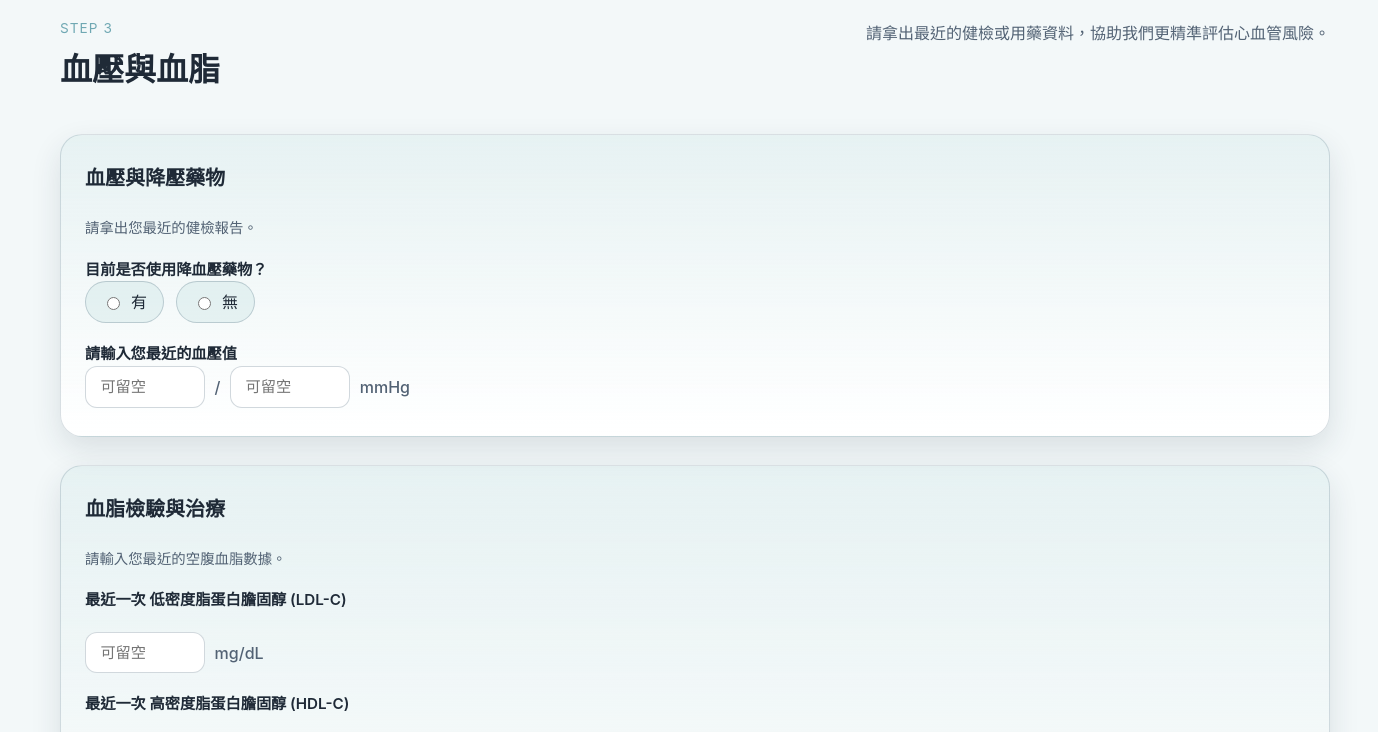
Scenario: Step2_BpLipids › 收集血壓與血脂資訊後提供即時提示並可前往下一步
This screenshot has width=1378, height=732.
Click the text "無": (230, 302) 222,290 -> 238,314
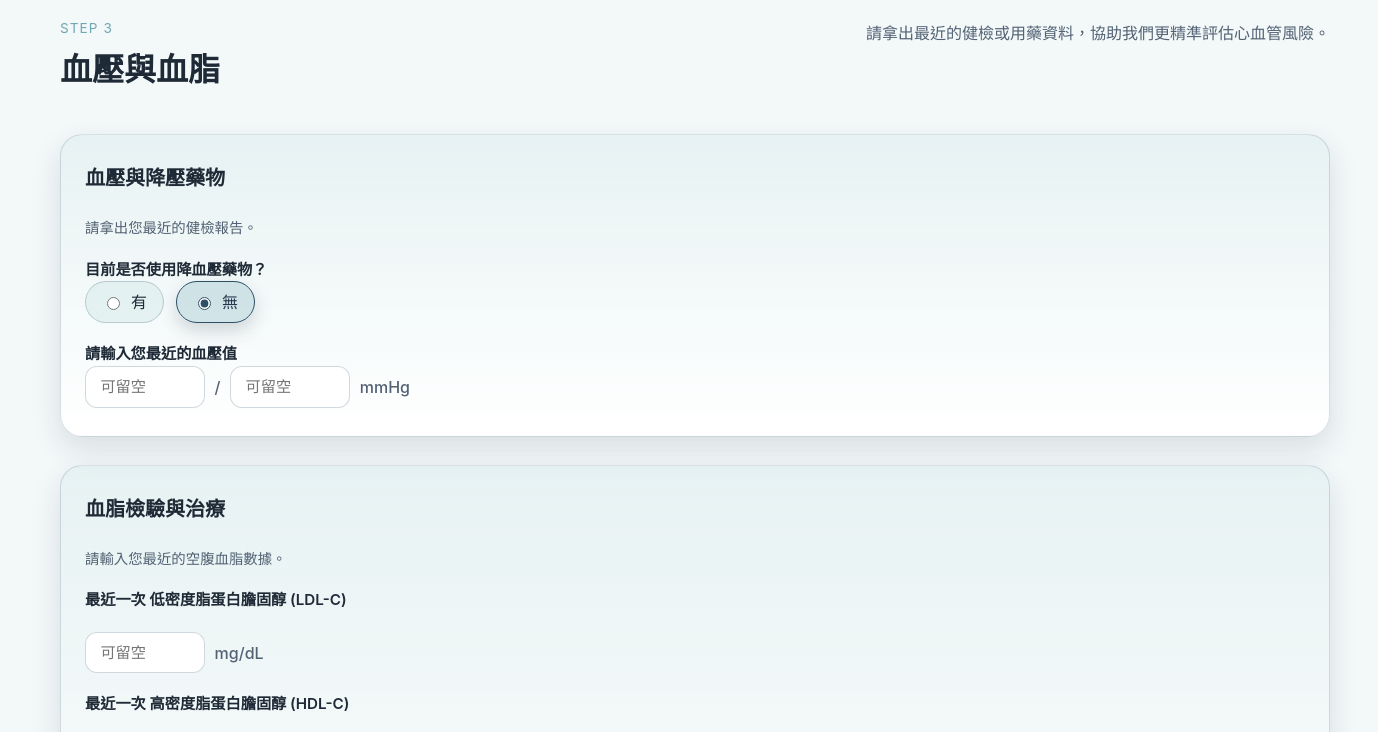
In the number field named "收縮壓": (145, 387) 85,366 -> 205,408, type "128"
In the number field named "舒張壓": (290, 387) 230,366 -> 350,408, type "82"
In the number field labelled "最近一次 低密度脂蛋白膽固醇 (LDL-C)": (145, 653) 85,632 -> 205,673, type "120"
(page scrolled)
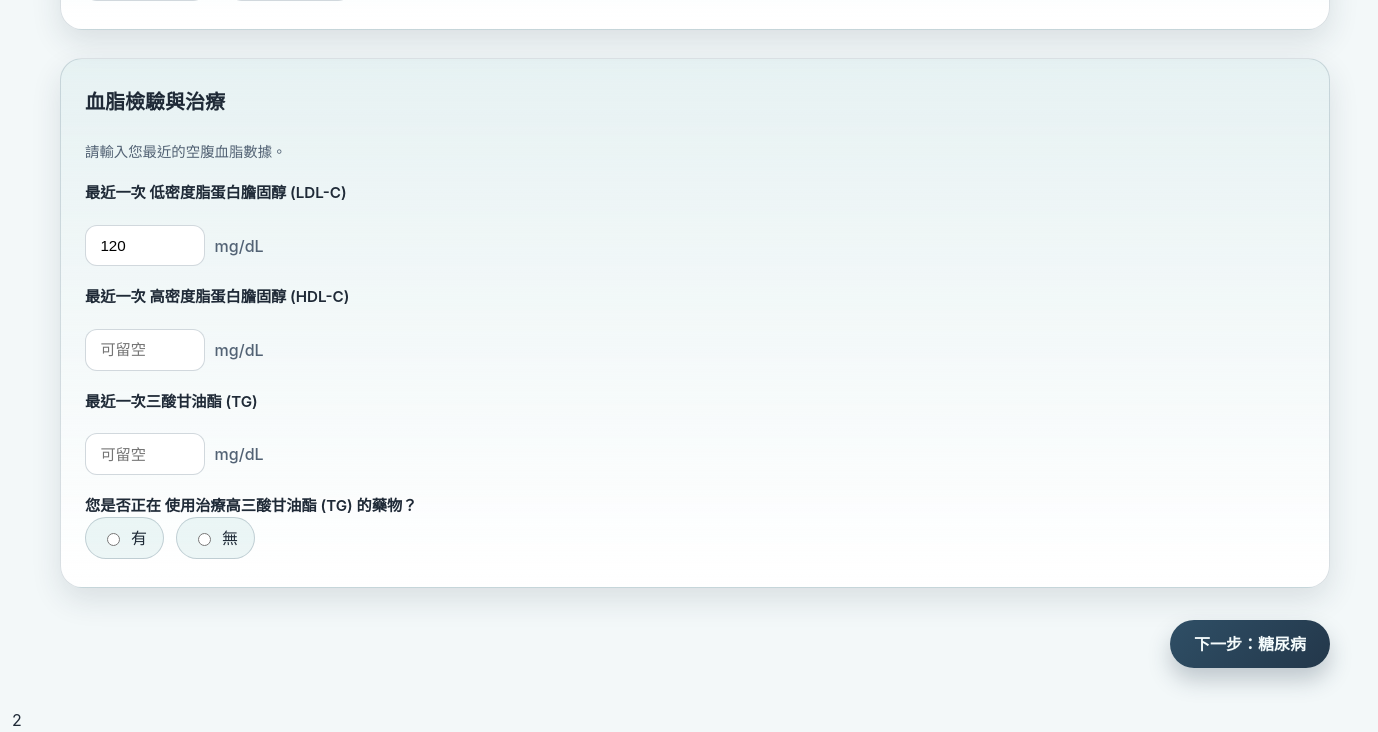
In the number field labelled "最近一次 高密度脂蛋白膽固醇 (HDL-C)": (145, 350) 85,329 -> 205,370, type "55"
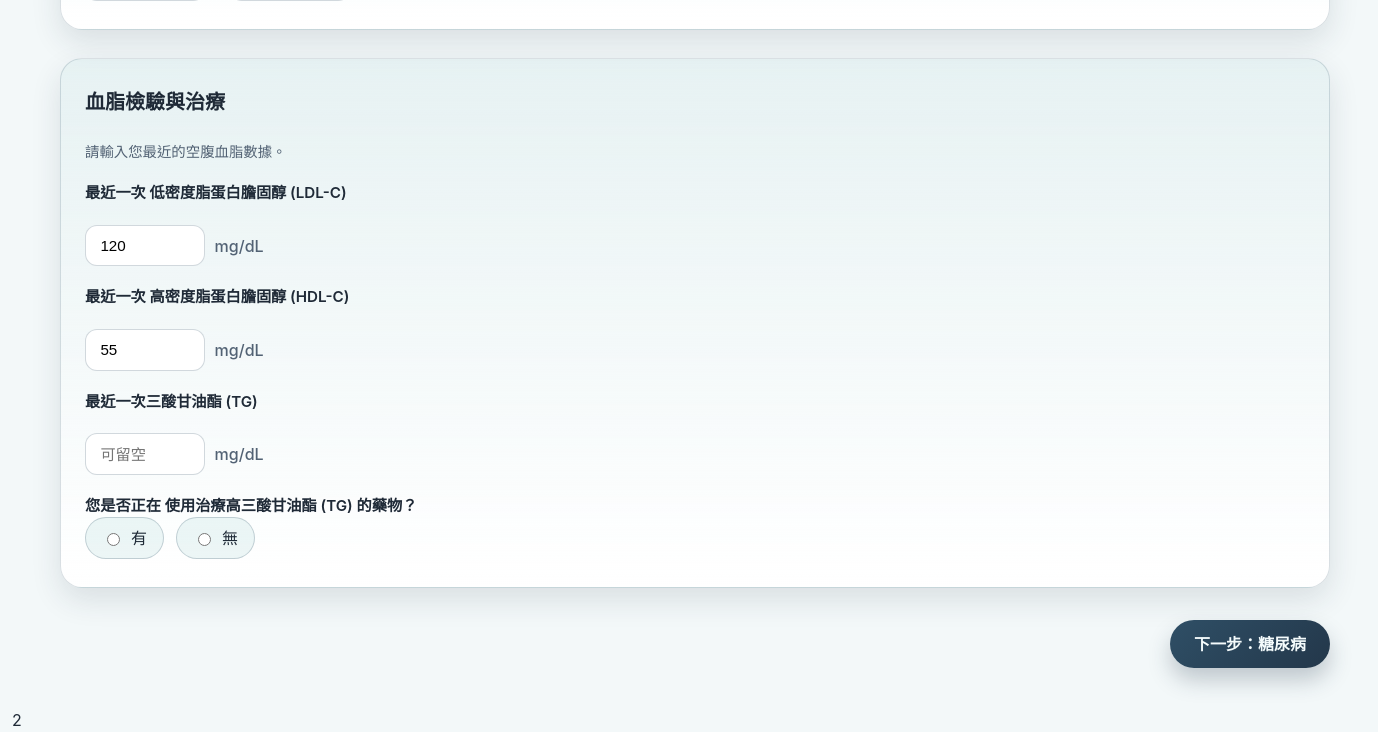
In the number field labelled "最近一次三酸甘油酯 (TG)": (145, 454) 85,433 -> 205,475, type "130"
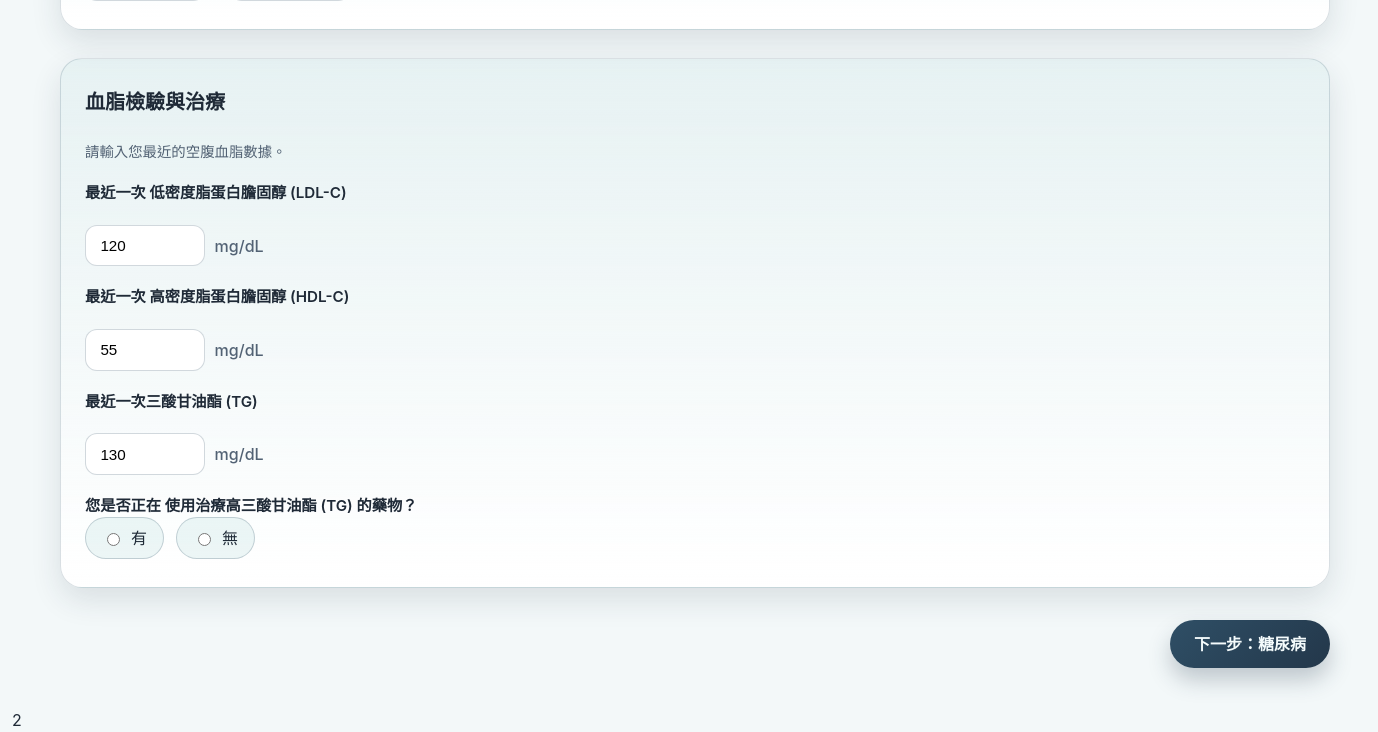
Click the text "無": (230, 538) 222,526 -> 238,550
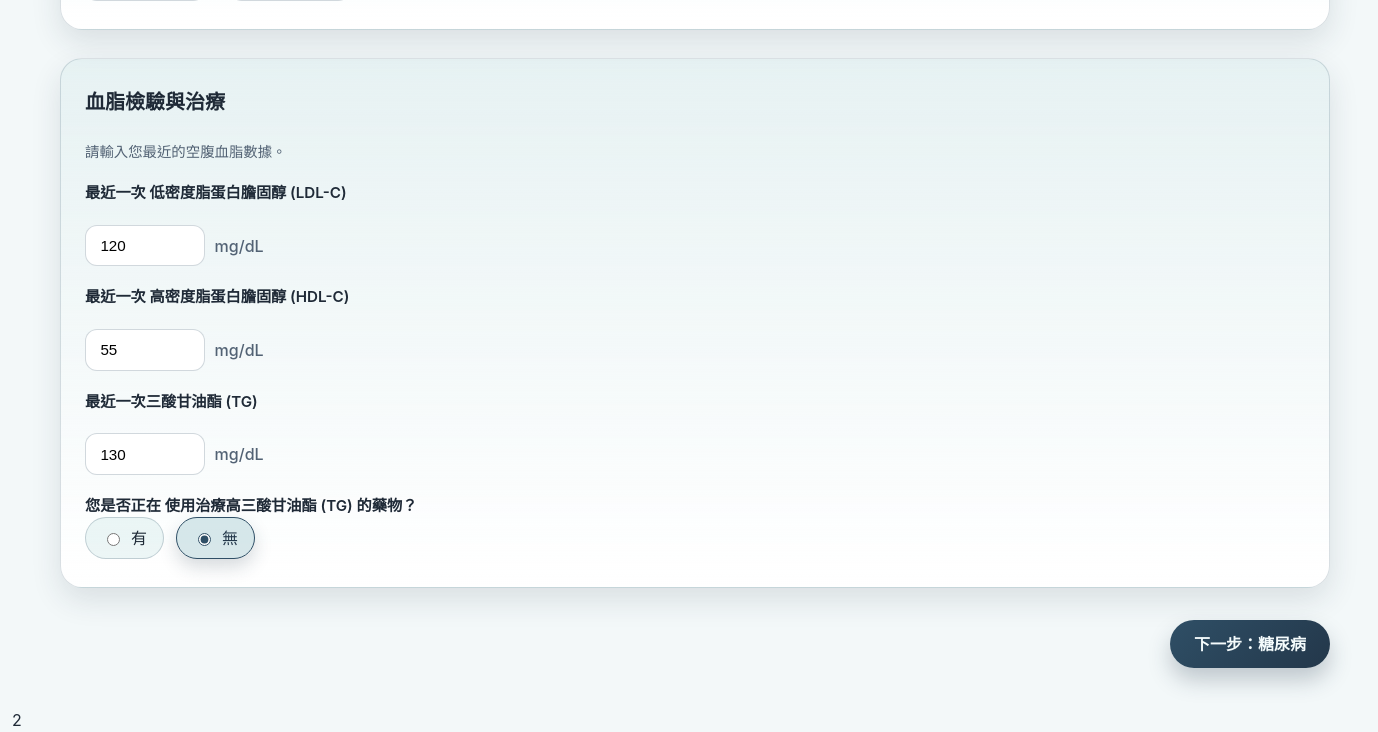
Click the button "下一步：糖尿病": (1250, 644) 1170,620 -> 1330,668
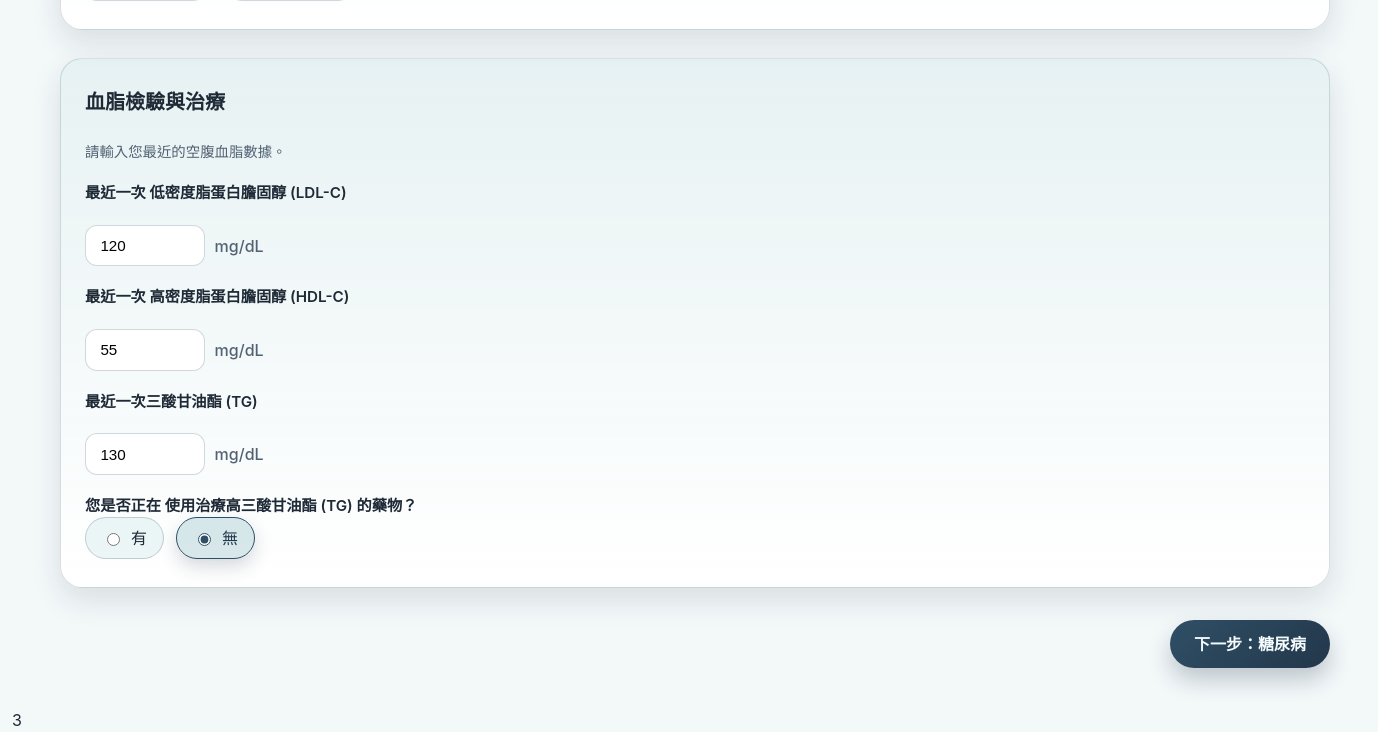
Check: the text with test id "current-step" reads "3", box 12,710 -> 22,730
